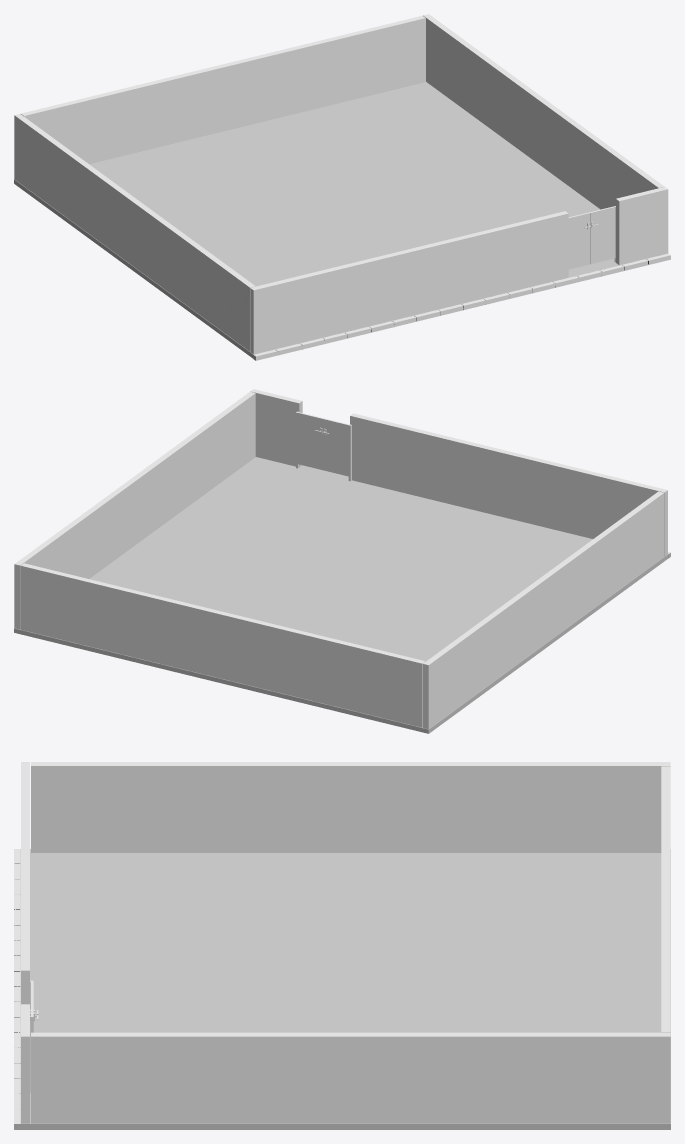
The model's file is Property_M2.fbx.
3 views of the same model, one above another, from view 1: azimuth 30°, elevation 25°; view 2: azimuth 150°, elevation 25°; view 3: azimuth 270°, elevation 25° (orthographic). The views are drawn at different scales.
Parts seen in each view (by area): view 1: Ground.004, Wall.10003, Wall.10026, Wall.10000, Wall.10008, Door.400, Door.019; view 2: Ground.004, Wall.10026, Wall.10003, Wall.10000, Wall.10008, Door.400, Door.019; view 3: Ground.004, Wall.10008, Wall.10000, Wall.10003, Wall.10026.
Part boxes in pixels (x1=…): Ground.004: x1=14, y1=82, x2=670, y2=360; Wall.10003: x1=250, y1=187, x2=668, y2=354; Wall.10026: x1=21, y1=15, x2=425, y2=164; Wall.10000: x1=14, y1=114, x2=255, y2=351; Wall.10008: x1=423, y1=14, x2=664, y2=209; Door.400: x1=589, y1=206, x2=615, y2=264; Door.019: x1=568, y1=212, x2=590, y2=269; Ground.004: x1=14, y1=457, x2=670, y2=733; Wall.10026: x1=20, y1=563, x2=425, y2=727; Wall.10003: x1=250, y1=389, x2=667, y2=556; Wall.10000: x1=423, y1=491, x2=664, y2=729; Wall.10008: x1=14, y1=391, x2=255, y2=629; Door.400: x1=298, y1=412, x2=323, y2=470; Door.019: x1=322, y1=418, x2=348, y2=476; Ground.004: x1=14, y1=849, x2=670, y2=1129; Wall.10008: x1=31, y1=1032, x2=670, y2=1123; Wall.10000: x1=31, y1=762, x2=670, y2=852; Wall.10003: x1=21, y1=762, x2=33, y2=1123; Wall.10026: x1=661, y1=766, x2=670, y2=1032.
Bounding box in the file's own units: 1000 × 158 × 1010.
